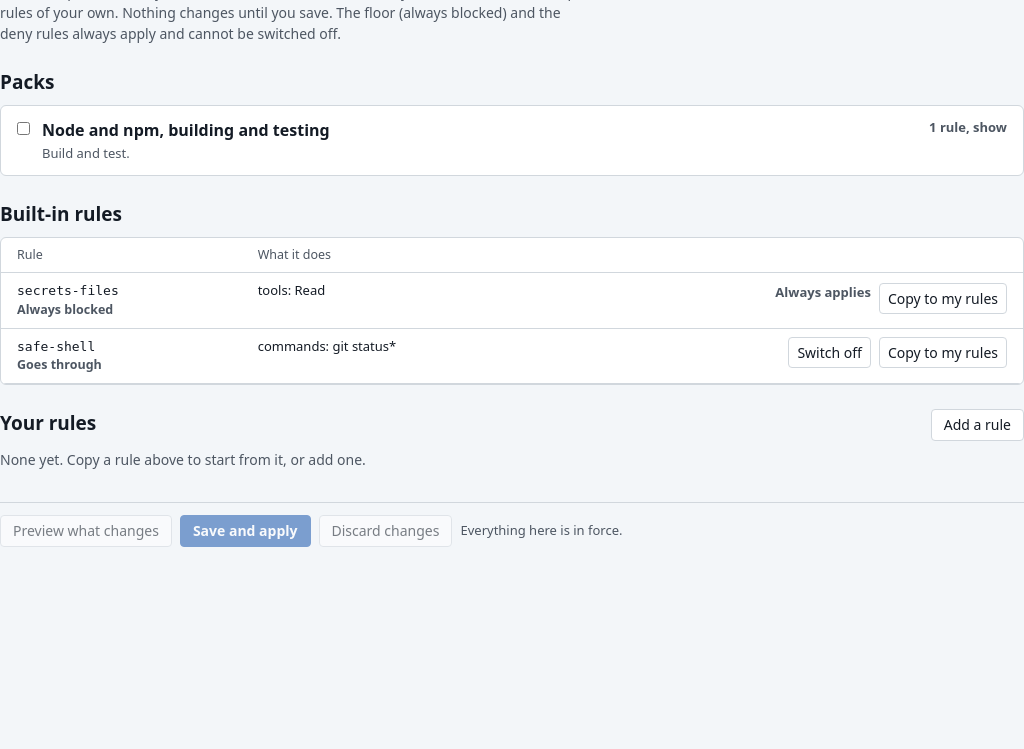
Scenario: the rule library › refuses a rule of yours that matches nothing in particular
Click the button "Add a rule".
click(977, 425)  # box [931,409,1023,441]
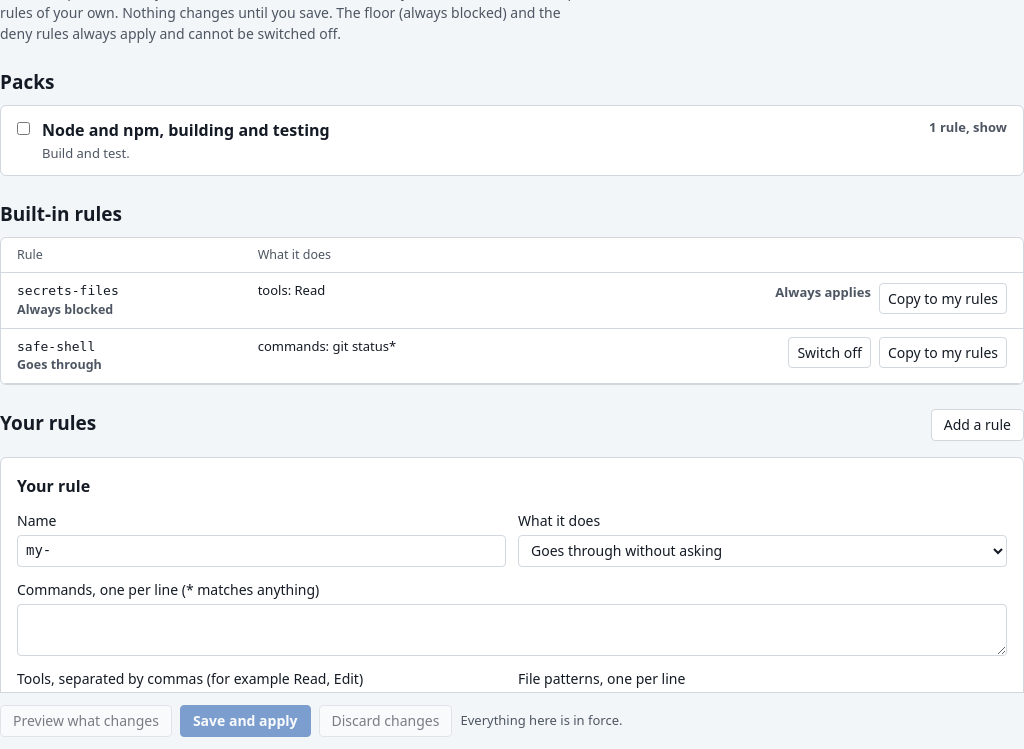
Replace the text in the field labelled "Name" with "my-x" at (262, 551), box [17,535,506,567]
(page scrolled)
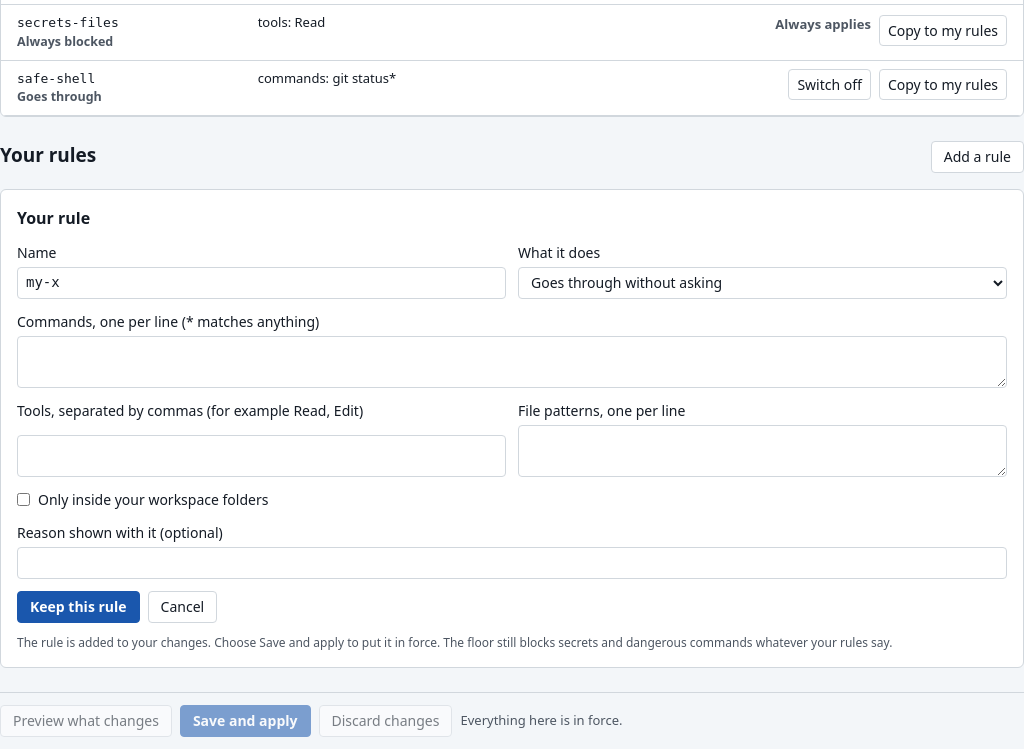
Click the button "Keep this rule".
click(78, 607)  # box [17,591,140,623]
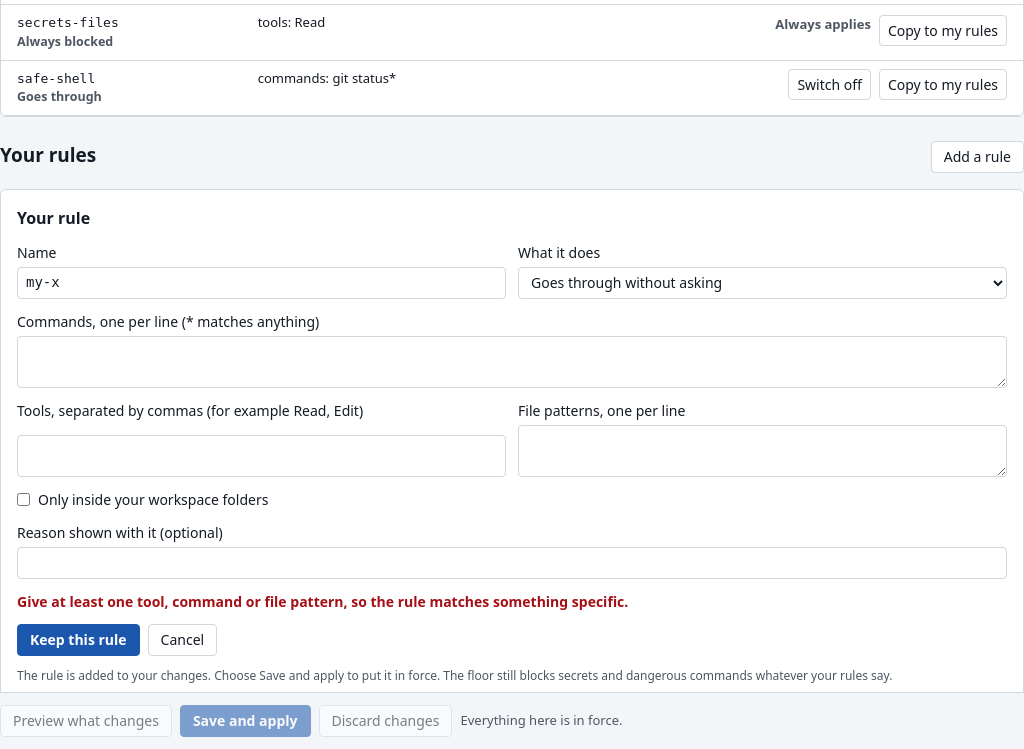
Now the message shows "at least one tool, command or file pattern", box [17,592,628,611]
